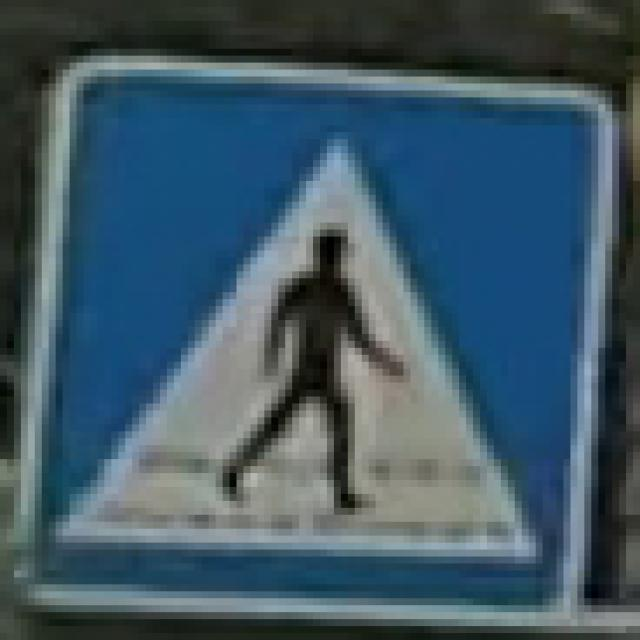zebracrossing_sign: (7, 49, 619, 619)
